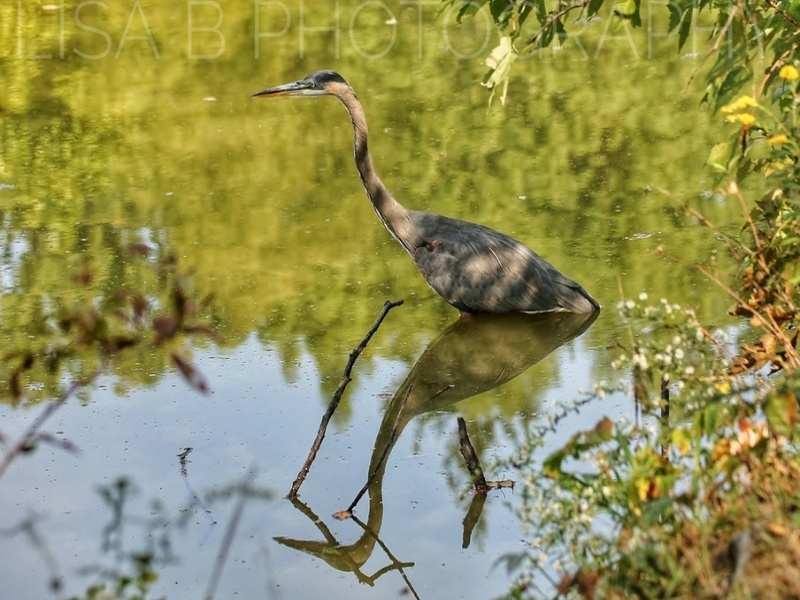heron: (251, 67, 605, 319)
